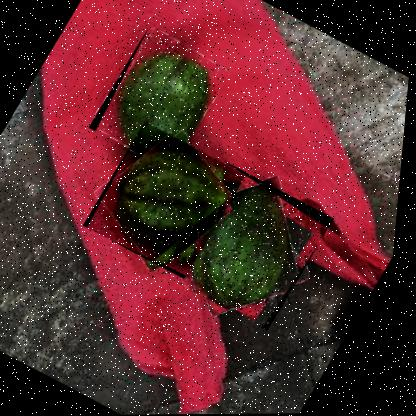guava: (156, 160, 343, 333), (82, 121, 253, 281), (87, 26, 235, 172)
